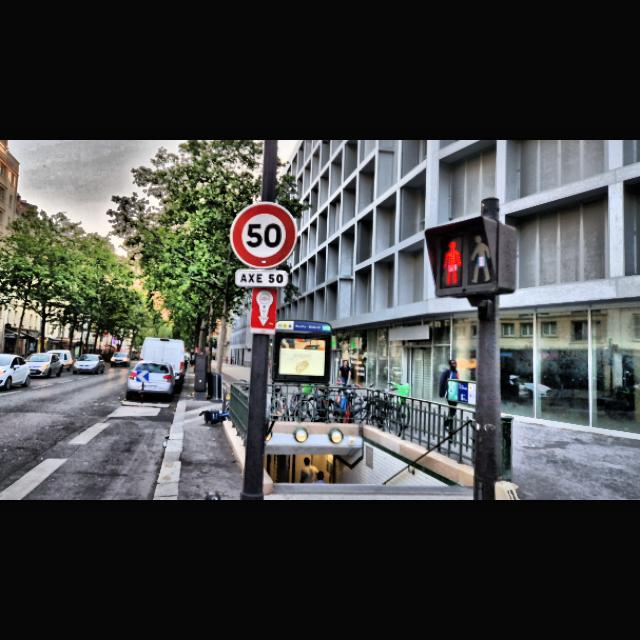speed_50: (229, 201, 297, 269)
